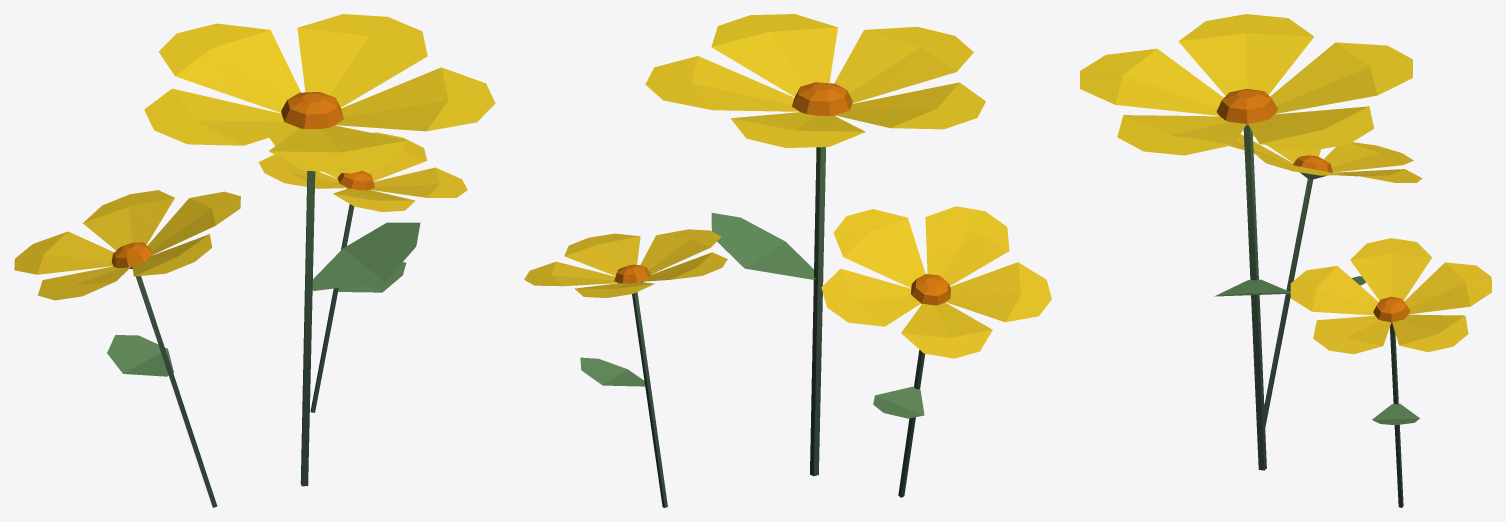
Rendered from Flower_2.fbx.
The picture shows the model from 3 angles, left to right: view 1: azimuth 30°, elevation 25°; view 2: azimuth 150°, elevation 25°; view 3: azimuth 270°, elevation 25°; orthographic projection. The views are drawn at different scales.
Visible parts, largest first — view 1: Flowers_2; view 2: Flowers_2; view 3: Flowers_2.
Boxes of the visible parts, bbox=[...] form: Flowers_2: bbox=[14, 14, 495, 507]; Flowers_2: bbox=[524, 14, 1051, 507]; Flowers_2: bbox=[1080, 14, 1491, 507].
Bounding box in the file's own units: 0.358 × 0.2943 × 0.3055.
